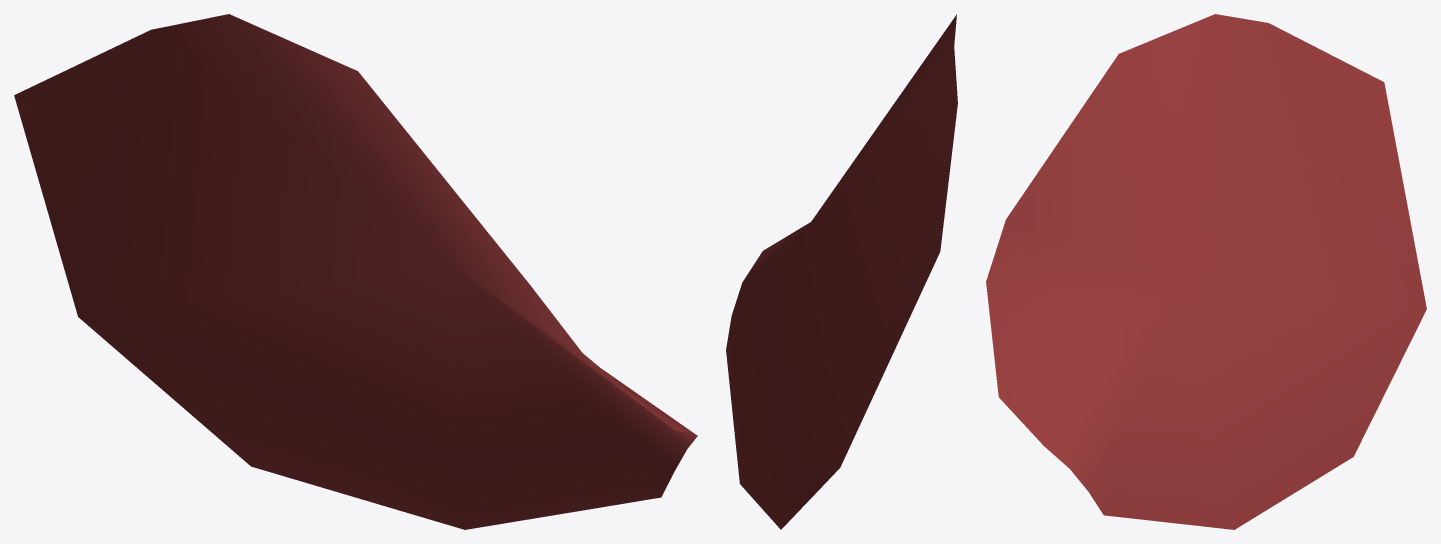
Rendered from abductor-pollicis-longus-el.glb.
3 views of the same model, side by side, from view 1: azimuth 30°, elevation 25°; view 2: azimuth 150°, elevation 25°; view 3: azimuth 270°, elevation 25° (orthographic). The views are drawn at different scales.
Parts seen in each view (by area): view 1: Abductor pollicis longus.el; view 2: Abductor pollicis longus.el; view 3: Abductor pollicis longus.el.
Boxes of the visible parts, x1=… form: Abductor pollicis longus.el: x1=14, y1=14, x2=697, y2=529; Abductor pollicis longus.el: x1=726, y1=14, x2=957, y2=529; Abductor pollicis longus.el: x1=986, y1=14, x2=1426, y2=529.
Bounding box in the file's own units: 0.00527 × 0.00644 × 0.00602.
